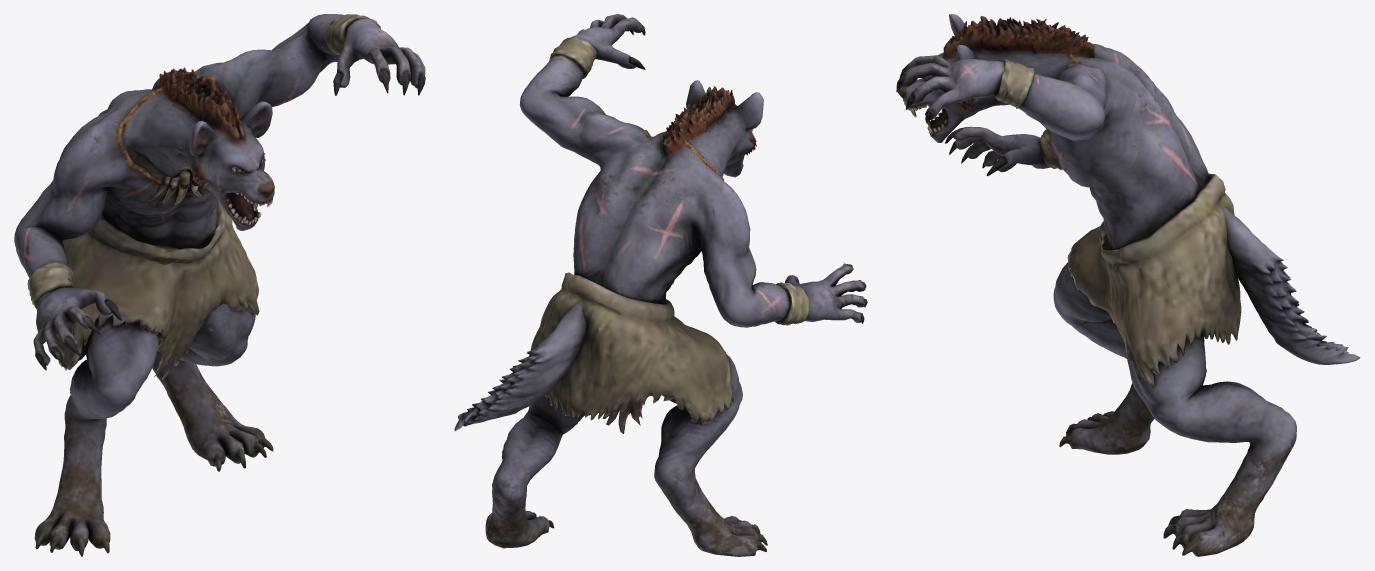
Rendered from MZ4250 - Gnoll Warrior 2025_rending.glb.
3 renders of one model, left to right at view 1: azimuth 30°, elevation 25°; view 2: azimuth 150°, elevation 25°; view 3: azimuth 270°, elevation 25°, orthographic. The views are drawn at different scales.
Parts seen in each view (by area): view 1: Body.001; view 2: Body.001; view 3: Body.001.
Boxes of the visible parts, x1,y1,x2,y2 form: Body.001: (14,14,425,556); Body.001: (454,14,867,556); Body.001: (896,14,1360,556).
Bounding box in the file's own units: 63.4 × 85.21 × 72.63.
Materials: 2 (2 with a texture image).
